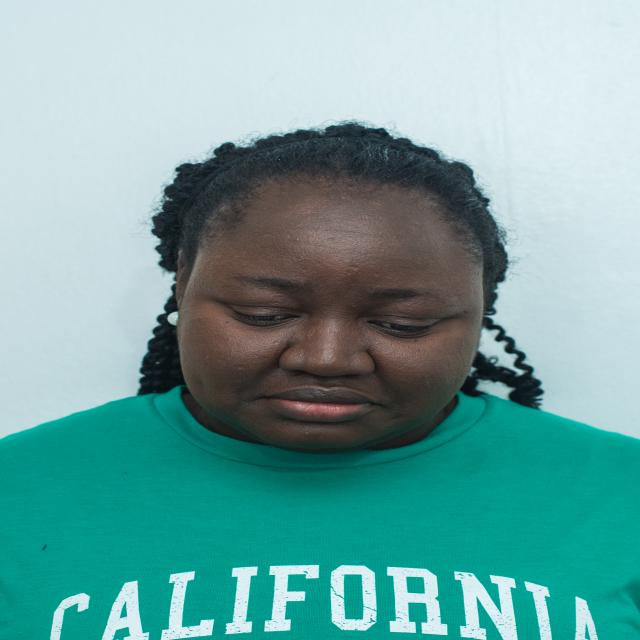sad: (170, 143, 498, 456)
